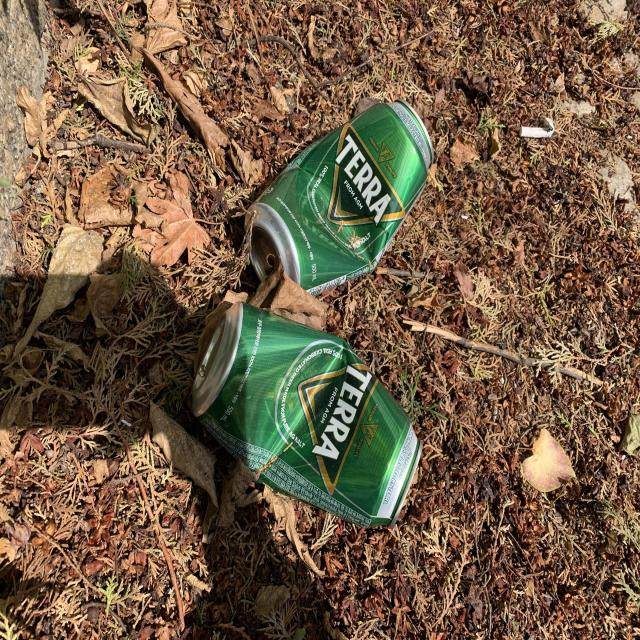can: (192, 301, 422, 527), (249, 100, 434, 294)
